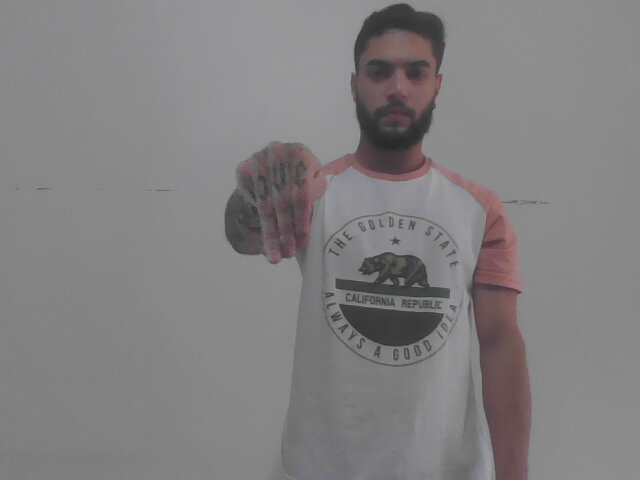m: (224, 134, 331, 269)
